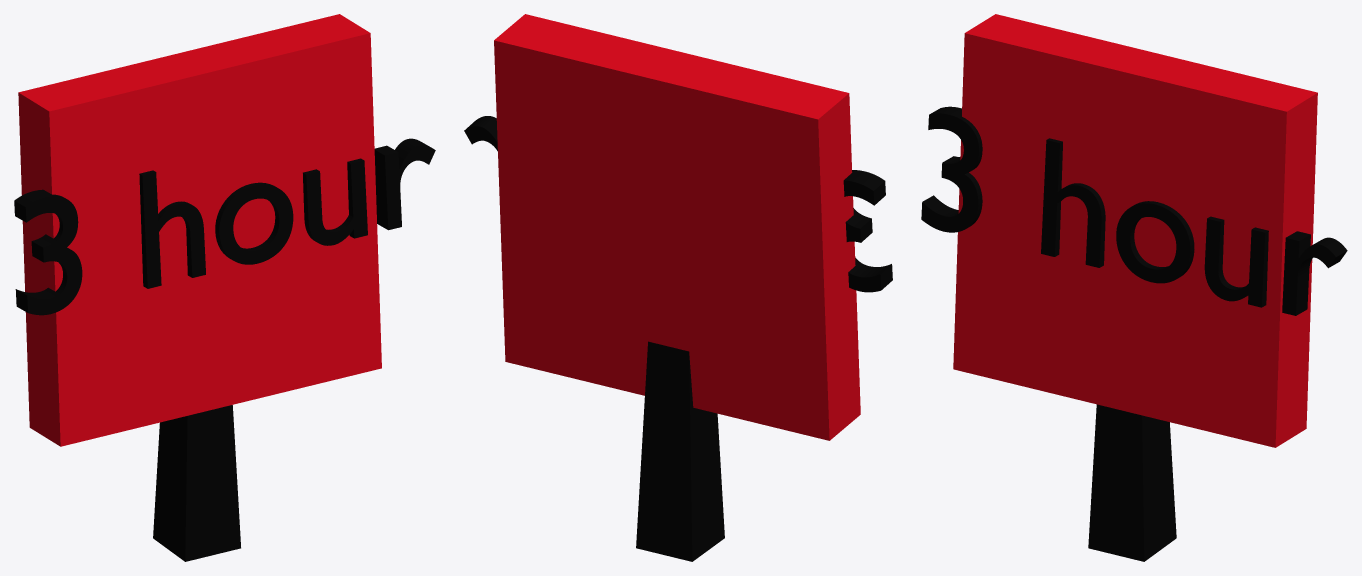
Rendered from настеные часыес.fbx.
The picture shows the model from 3 angles, left to right: view 1: azimuth 30°, elevation 25°; view 2: azimuth 150°, elevation 25°; view 3: azimuth 330°, elevation 25°; orthographic projection.
Visible parts, largest first — view 1: Cube.002, Text, Cube; view 2: Cube.002, Cube, Text; view 3: Cube.002, Text, Cube.
Part boxes in pixels (x1=…): Cube.002: x1=18, y1=14, x2=381, y2=446; Text: x1=14, y1=138, x2=435, y2=315; Cube: x1=153, y1=405, x2=240, y2=561; Cube.002: x1=494, y1=14, x2=860, y2=440; Cube: x1=636, y1=341, x2=724, y2=561; Text: x1=464, y1=116, x2=892, y2=292; Cube.002: x1=953, y1=14, x2=1317, y2=447; Text: x1=921, y1=106, x2=1347, y2=315; Cube: x1=1088, y1=404, x2=1176, y2=561.
Bounding box in the file's own units: 266 × 296 × 47.49.
